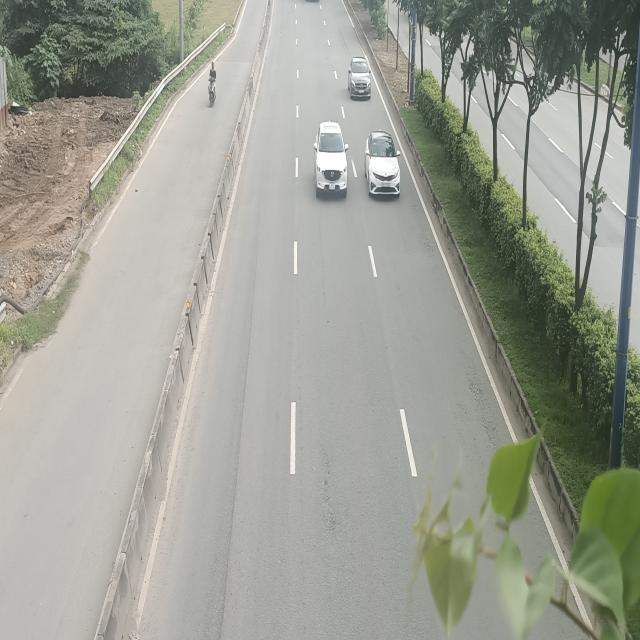car: (316, 121, 352, 198), (362, 135, 399, 202), (348, 55, 371, 100)
